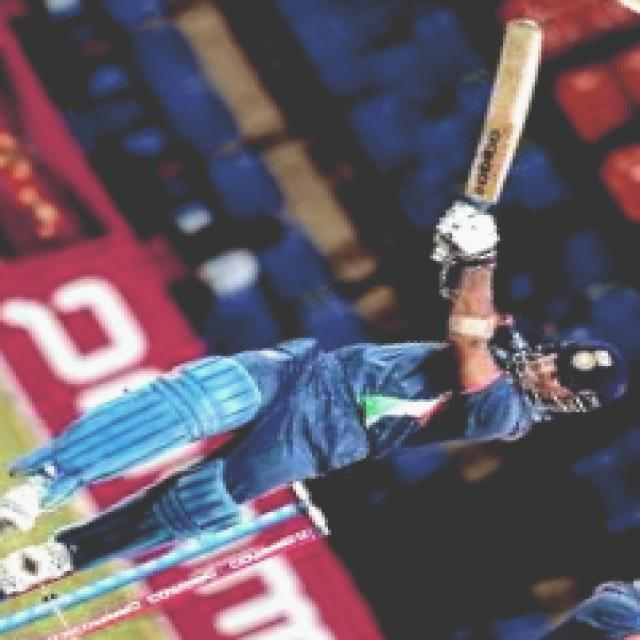toe: (494, 11, 552, 63)
